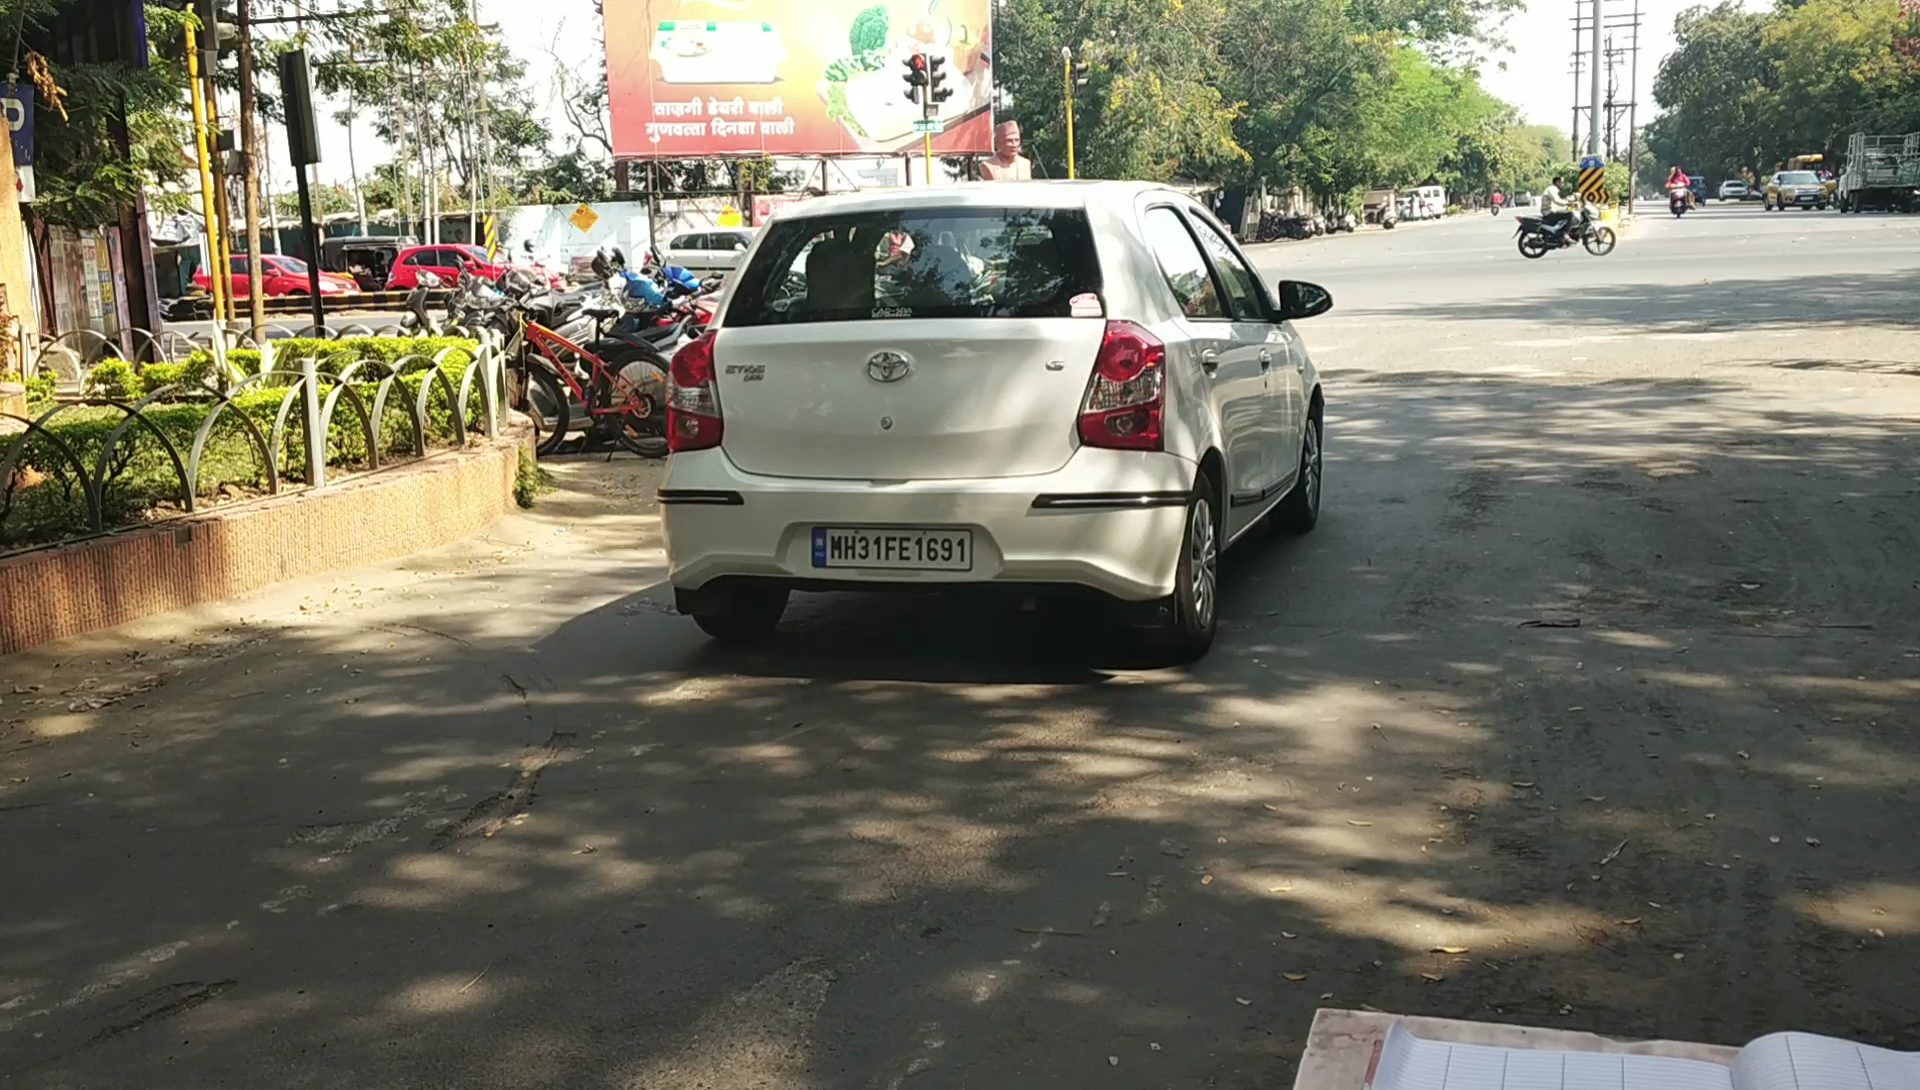car: (659, 165, 1363, 672)
numplate: (808, 521, 982, 572)
